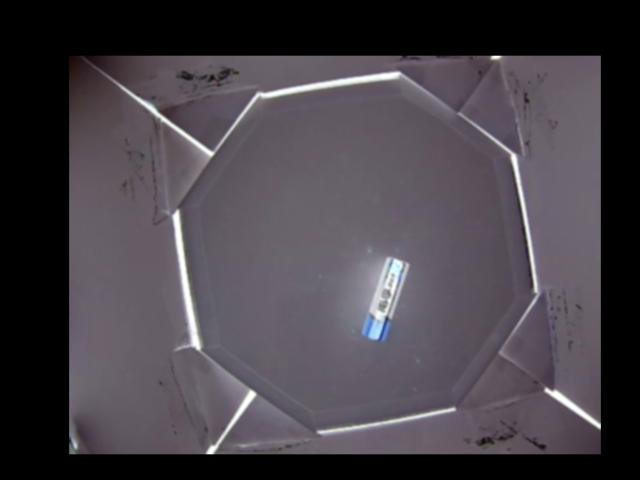Battery: (359, 256, 411, 339)
